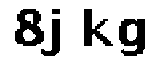8: (10, 5, 46, 47)
g: (116, 14, 152, 60)
j: (43, 3, 73, 60)
k: (78, 6, 115, 51)
